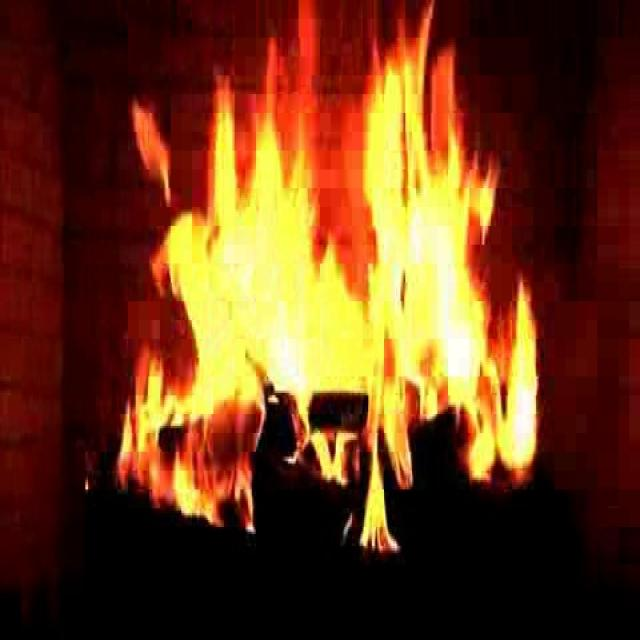fire: (128, 35, 526, 520)
